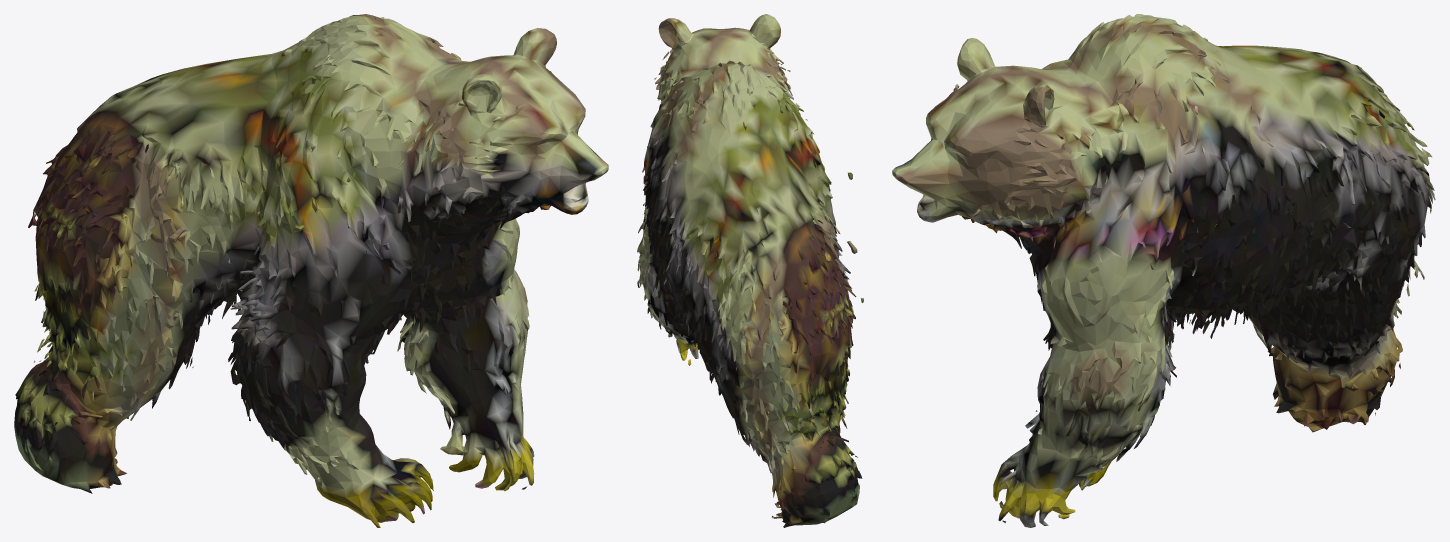
The model's file is killerBee.glb.
3 renders of one model, left to right at view 1: azimuth 30°, elevation 25°; view 2: azimuth 150°, elevation 25°; view 3: azimuth 270°, elevation 25°, orthographic. The views are drawn at different scales.
Parts seen in each view (by area): view 1: world; view 2: world; view 3: world.
Part boxes in pixels (x1,y1,x2,y2): world: [14, 14, 608, 527]; world: [637, 14, 863, 527]; world: [892, 14, 1435, 527].
Size of the model in its own units: 0.8554 by 1 by 0.9875.
